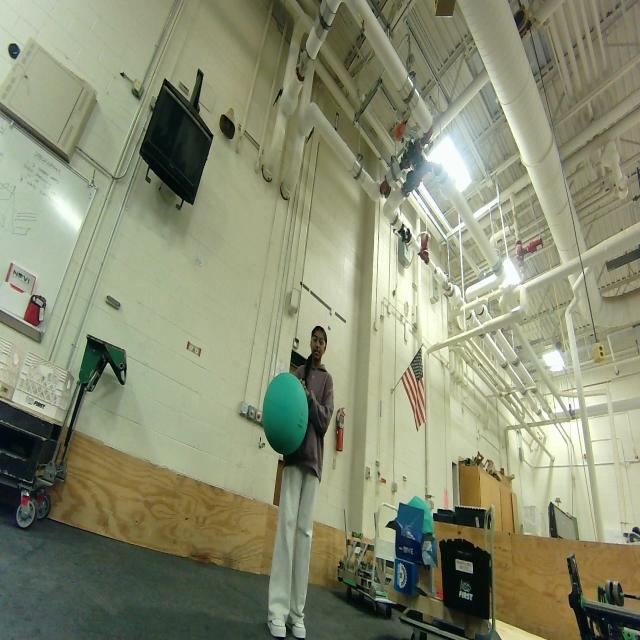algae: (261, 368, 309, 460)
